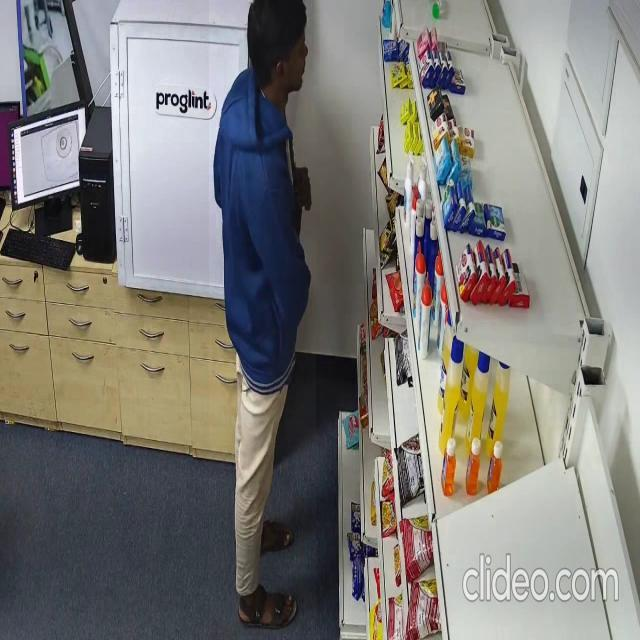Shoplifting: (209, 0, 316, 633)
